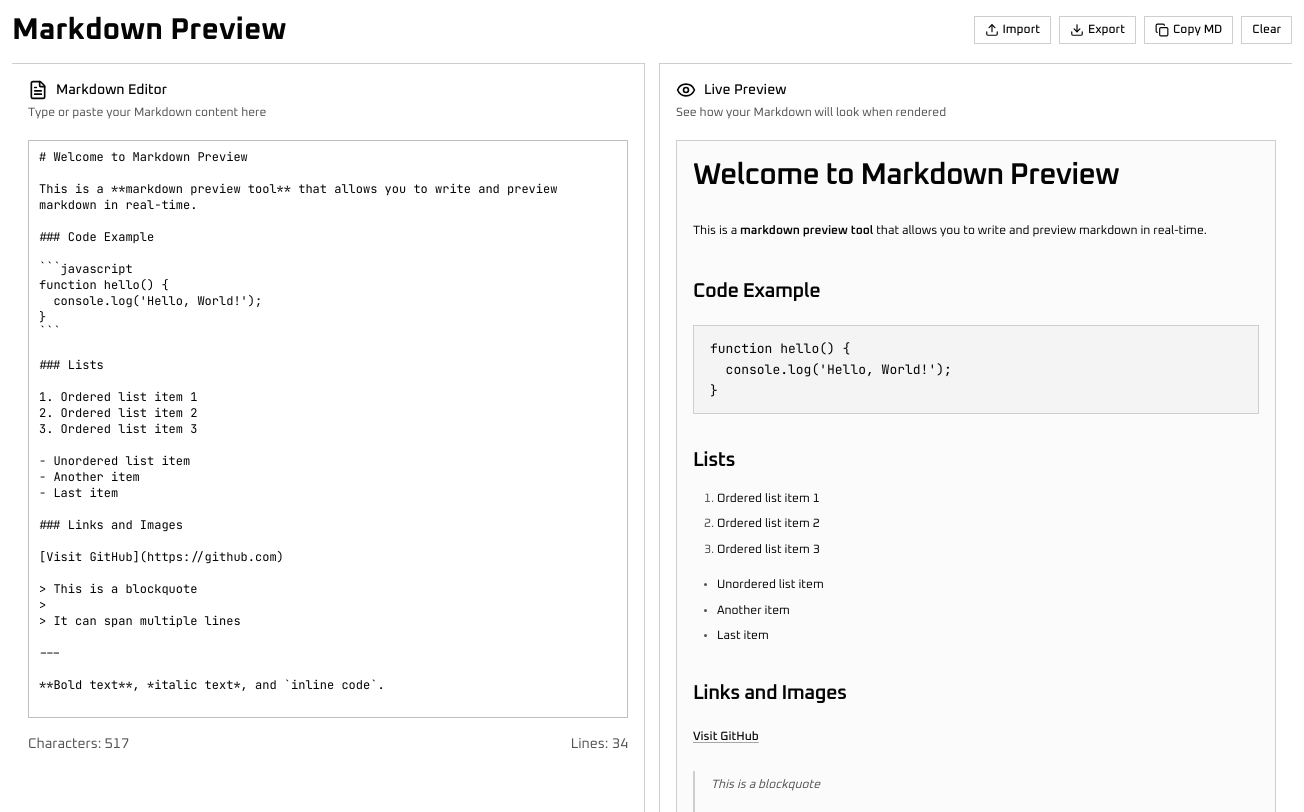
Markdown Preview Page › clears content when clear button is clicked
This screenshot has width=1304, height=812.
Click the button "Clear": (1267, 30) left=1241, top=16, right=1292, bottom=44
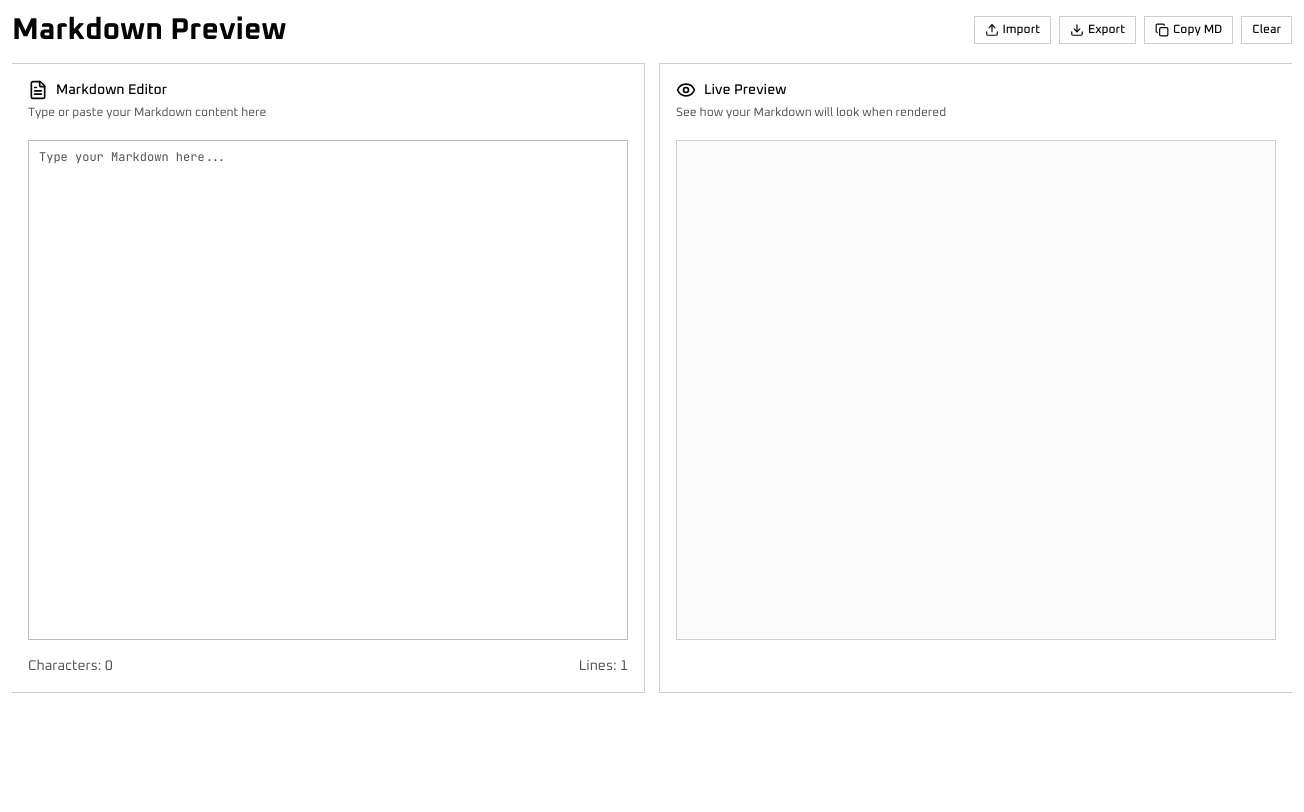
Expected: the text box with placeholder "Type your Markdown here..." is empty, left=28, top=140, right=628, bottom=640
